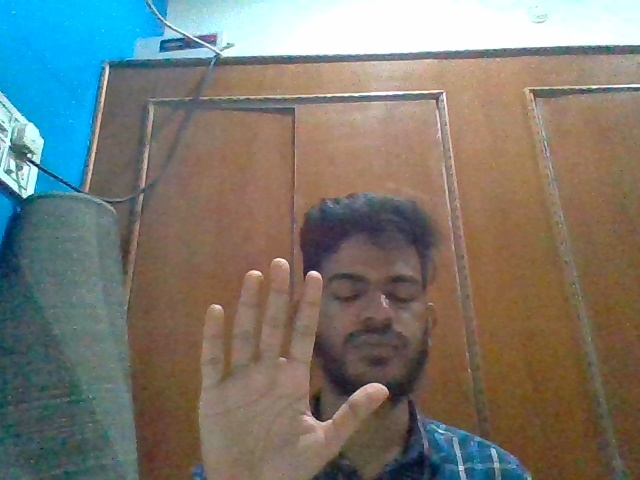hello: (186, 252, 396, 480)
